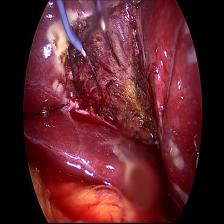Bipolar: (52, 0, 123, 96)
